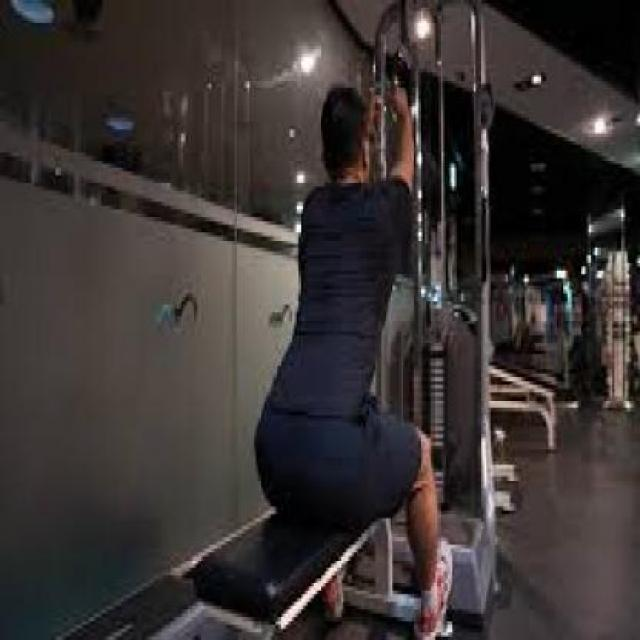Seated Cable Rows: (185, 0, 504, 640)
